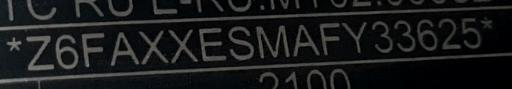letter: (254, 23, 292, 62), (136, 28, 172, 65), (166, 27, 200, 64), (107, 30, 141, 67), (224, 24, 256, 63), (196, 26, 228, 65), (291, 23, 321, 60), (24, 34, 54, 71), (53, 32, 81, 71), (456, 14, 484, 51), (340, 19, 368, 56), (80, 29, 106, 68), (434, 16, 462, 51), (370, 18, 396, 55), (316, 21, 342, 58), (414, 16, 440, 51), (392, 18, 418, 53)
